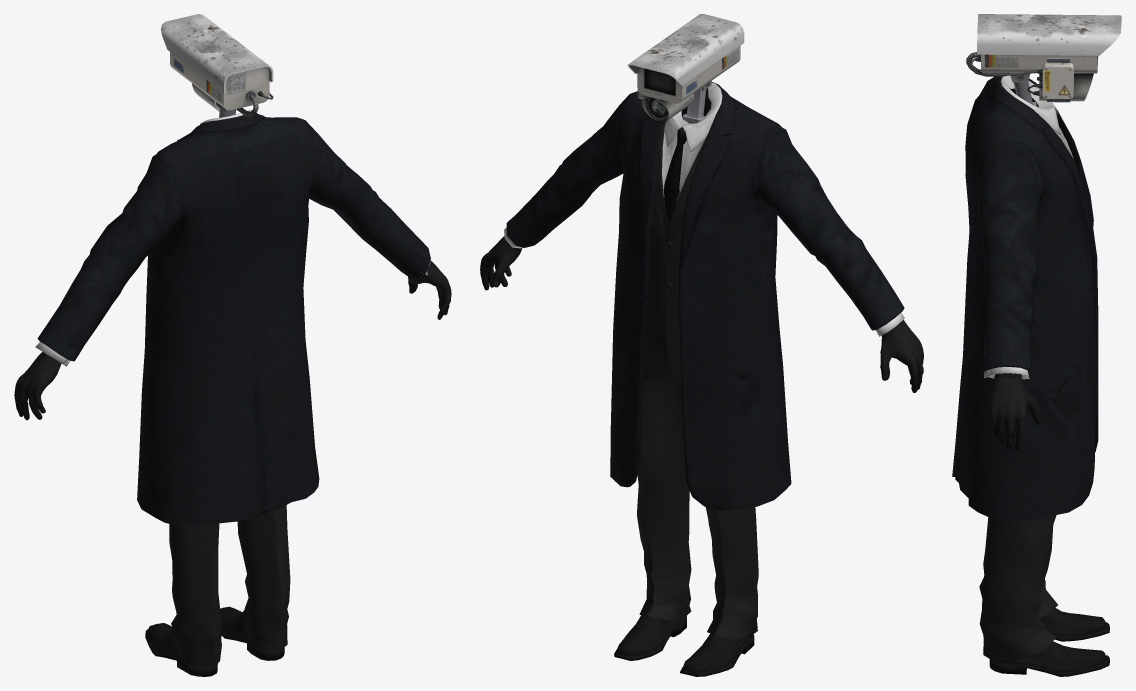
The model's file is cameraman.glb.
3 renders of one model, left to right at view 1: azimuth 30°, elevation 25°; view 2: azimuth 150°, elevation 25°; view 3: azimuth 270°, elevation 25°, orthographic. The views are drawn at different scales.
Parts seen in each view (by area): view 1: Object_3, Object_6, Object_2, Object_4; view 2: Object_3, Object_6, Object_2, Object_4, Object_7; view 3: Object_3, Object_6, Object_2, Object_4, Object_7, Object_5.
Boxes of the visible parts, <box> form: Object_3: <box>37,113,430,526</box>; Object_6: <box>35,109,431,676</box>; Object_2: <box>161,14,273,116</box>; Object_4: <box>14,261,451,420</box>; Object_3: <box>506,82,904,510</box>; Object_6: <box>504,82,904,676</box>; Object_2: <box>627,14,744,122</box>; Object_4: <box>480,236,923,392</box>; Object_7: <box>663,127,686,222</box>; Object_3: <box>952,76,1098,521</box>; Object_6: <box>979,75,1109,676</box>; Object_2: <box>966,14,1121,102</box>; Object_4: <box>990,373,1042,450</box>; Object_7: <box>1056,112,1079,174</box>; Object_5: <box>1013,81,1036,106</box>.
Size of the model in its own units: 10.04 by 13.37 by 3.28.
6 materials, 6 textured.
